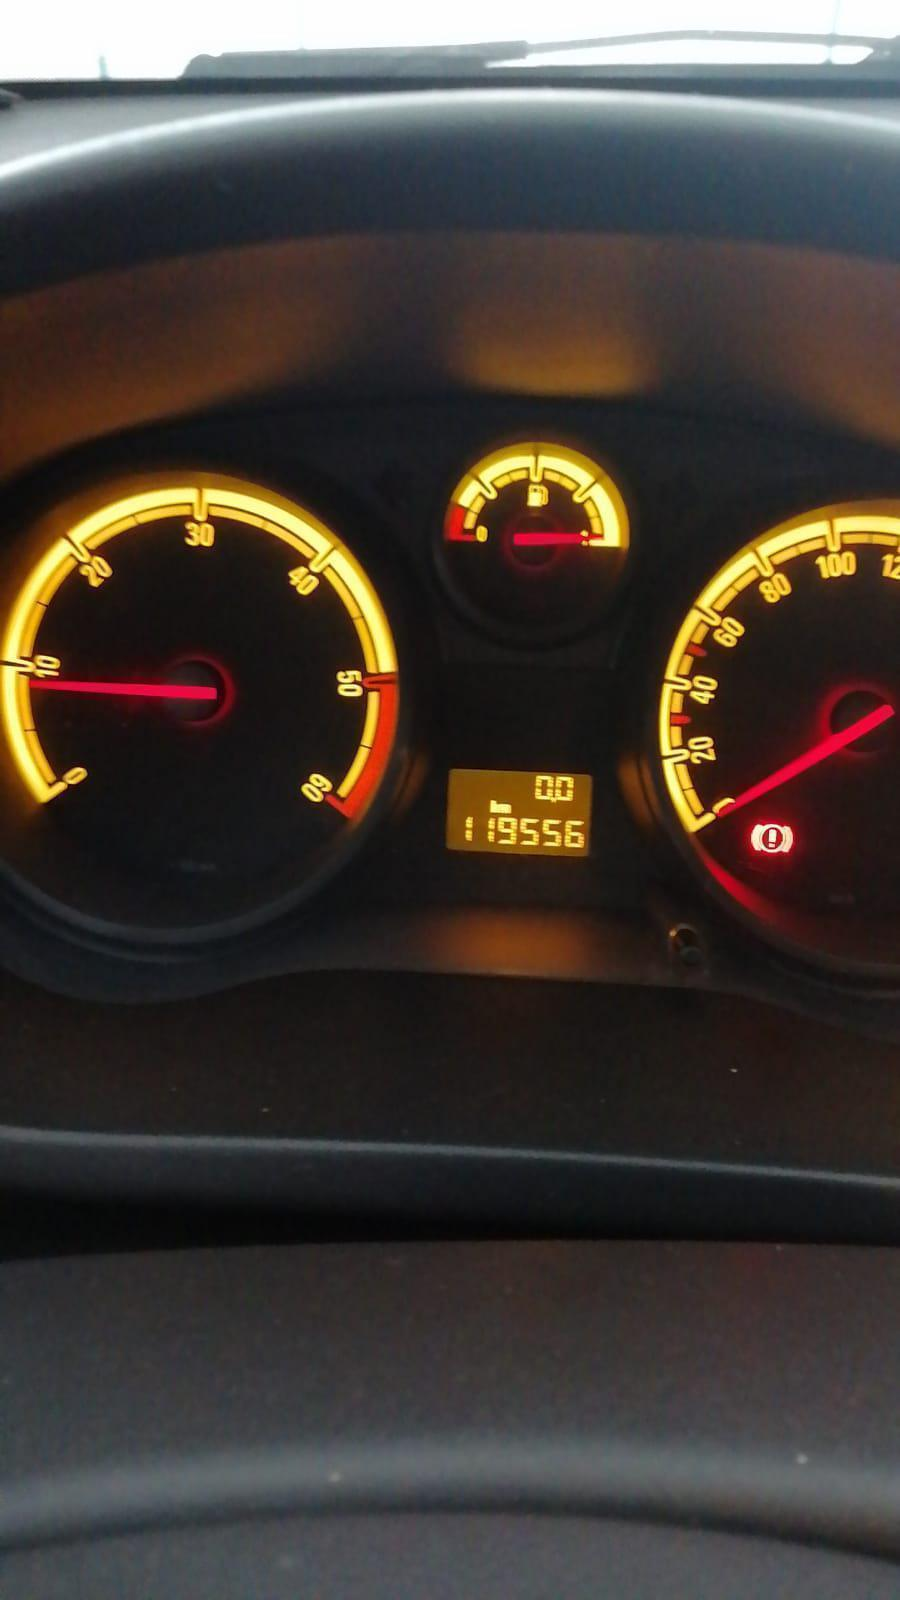,: (549, 797, 557, 803)
0: (554, 775, 574, 801), (534, 774, 554, 800)
1: (463, 815, 474, 842), (485, 816, 496, 842)
5: (518, 816, 538, 846), (541, 818, 562, 846)
6: (563, 819, 585, 849)
9: (496, 816, 518, 844)
odometer: (443, 765, 595, 858)
